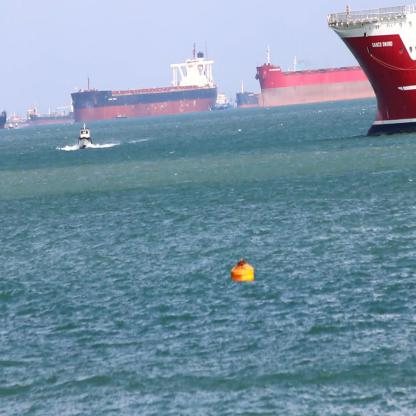Container Ship: (70, 40, 218, 125), (329, 1, 415, 140), (255, 43, 380, 109), (27, 101, 73, 125), (233, 78, 259, 109), (212, 84, 232, 112), (3, 107, 25, 128)
